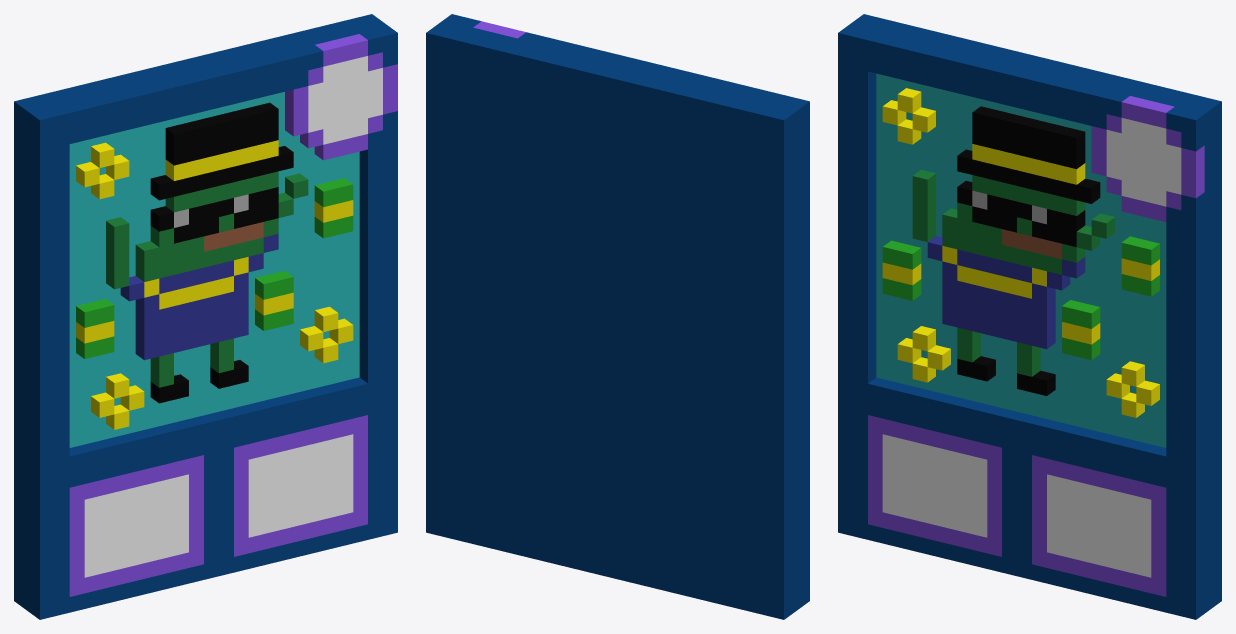
The model's file is pepe.glb.
The picture shows the model from 3 angles, left to right: view 1: azimuth 30°, elevation 25°; view 2: azimuth 150°, elevation 25°; view 3: azimuth 330°, elevation 25°; orthographic projection.
Visible parts, largest first — view 1: Pepe.vox; view 2: Pepe.vox; view 3: Pepe.vox.
Part boxes in pixels (x1,y1,x2,y2): Pepe.vox: (14,14,397,619); Pepe.vox: (426,14,809,619); Pepe.vox: (838,14,1221,619).
Bounding box in the file's own units: 2.4 × 3.2 × 0.3.
1 material, 1 textured.
